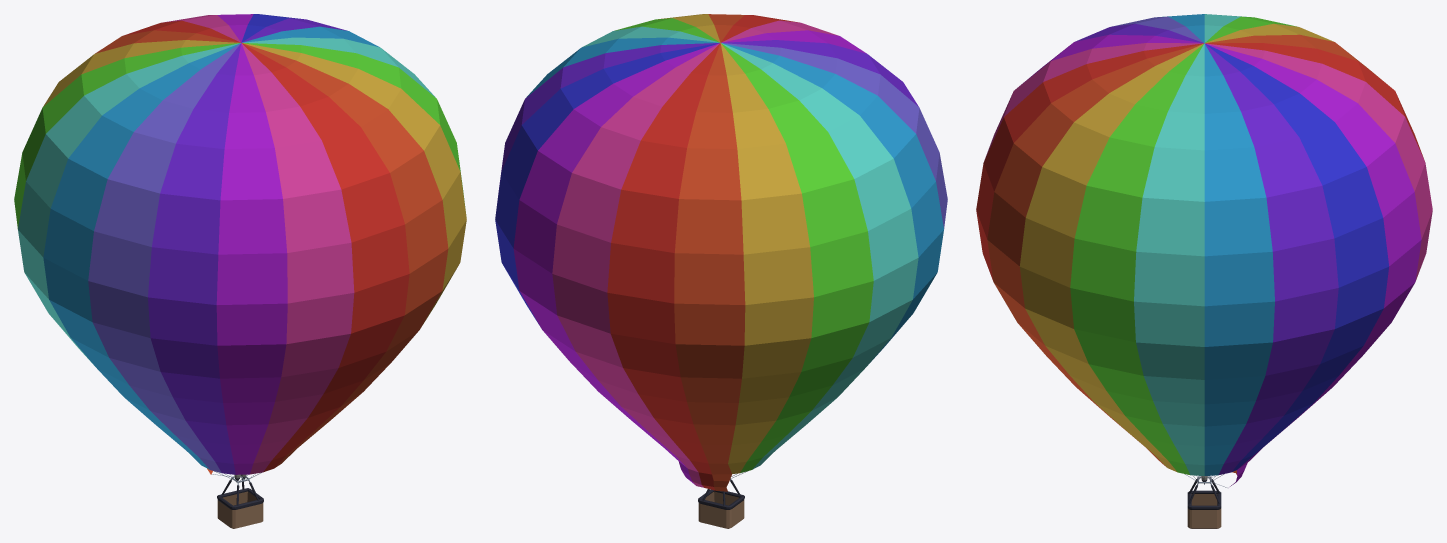
File: HotAirBallon_Medium_01.fbx
The picture shows the model from 3 angles, left to right: view 1: azimuth 30°, elevation 25°; view 2: azimuth 150°, elevation 25°; view 3: azimuth 270°, elevation 25°; orthographic projection.
Parts seen in each view (by area): view 1: HotAirBallon_Medium_01; view 2: HotAirBallon_Medium_01; view 3: HotAirBallon_Medium_01.
Part boxes in pixels (x1=…): HotAirBallon_Medium_01: x1=14, y1=14, x2=466, y2=528; HotAirBallon_Medium_01: x1=495, y1=14, x2=947, y2=528; HotAirBallon_Medium_01: x1=976, y1=14, x2=1432, y2=528.
Size of the model in its own units: 22.43 by 25.98 by 22.43.
